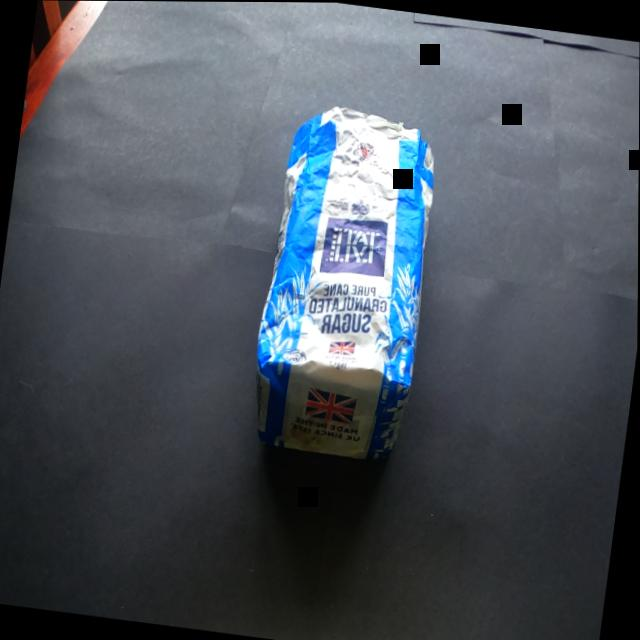Whitesugar: (206, 54, 476, 517)
